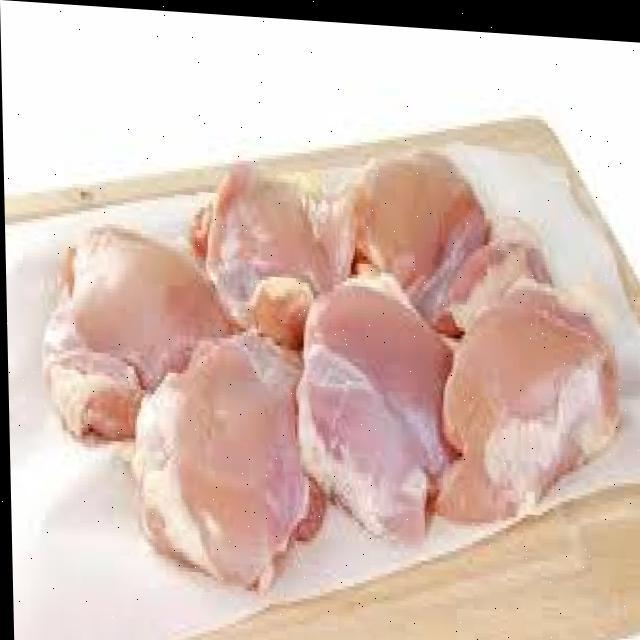thigh: (291, 264, 457, 559), (442, 252, 606, 538), (126, 340, 318, 584), (40, 194, 222, 450), (186, 138, 345, 346), (329, 128, 490, 311)
